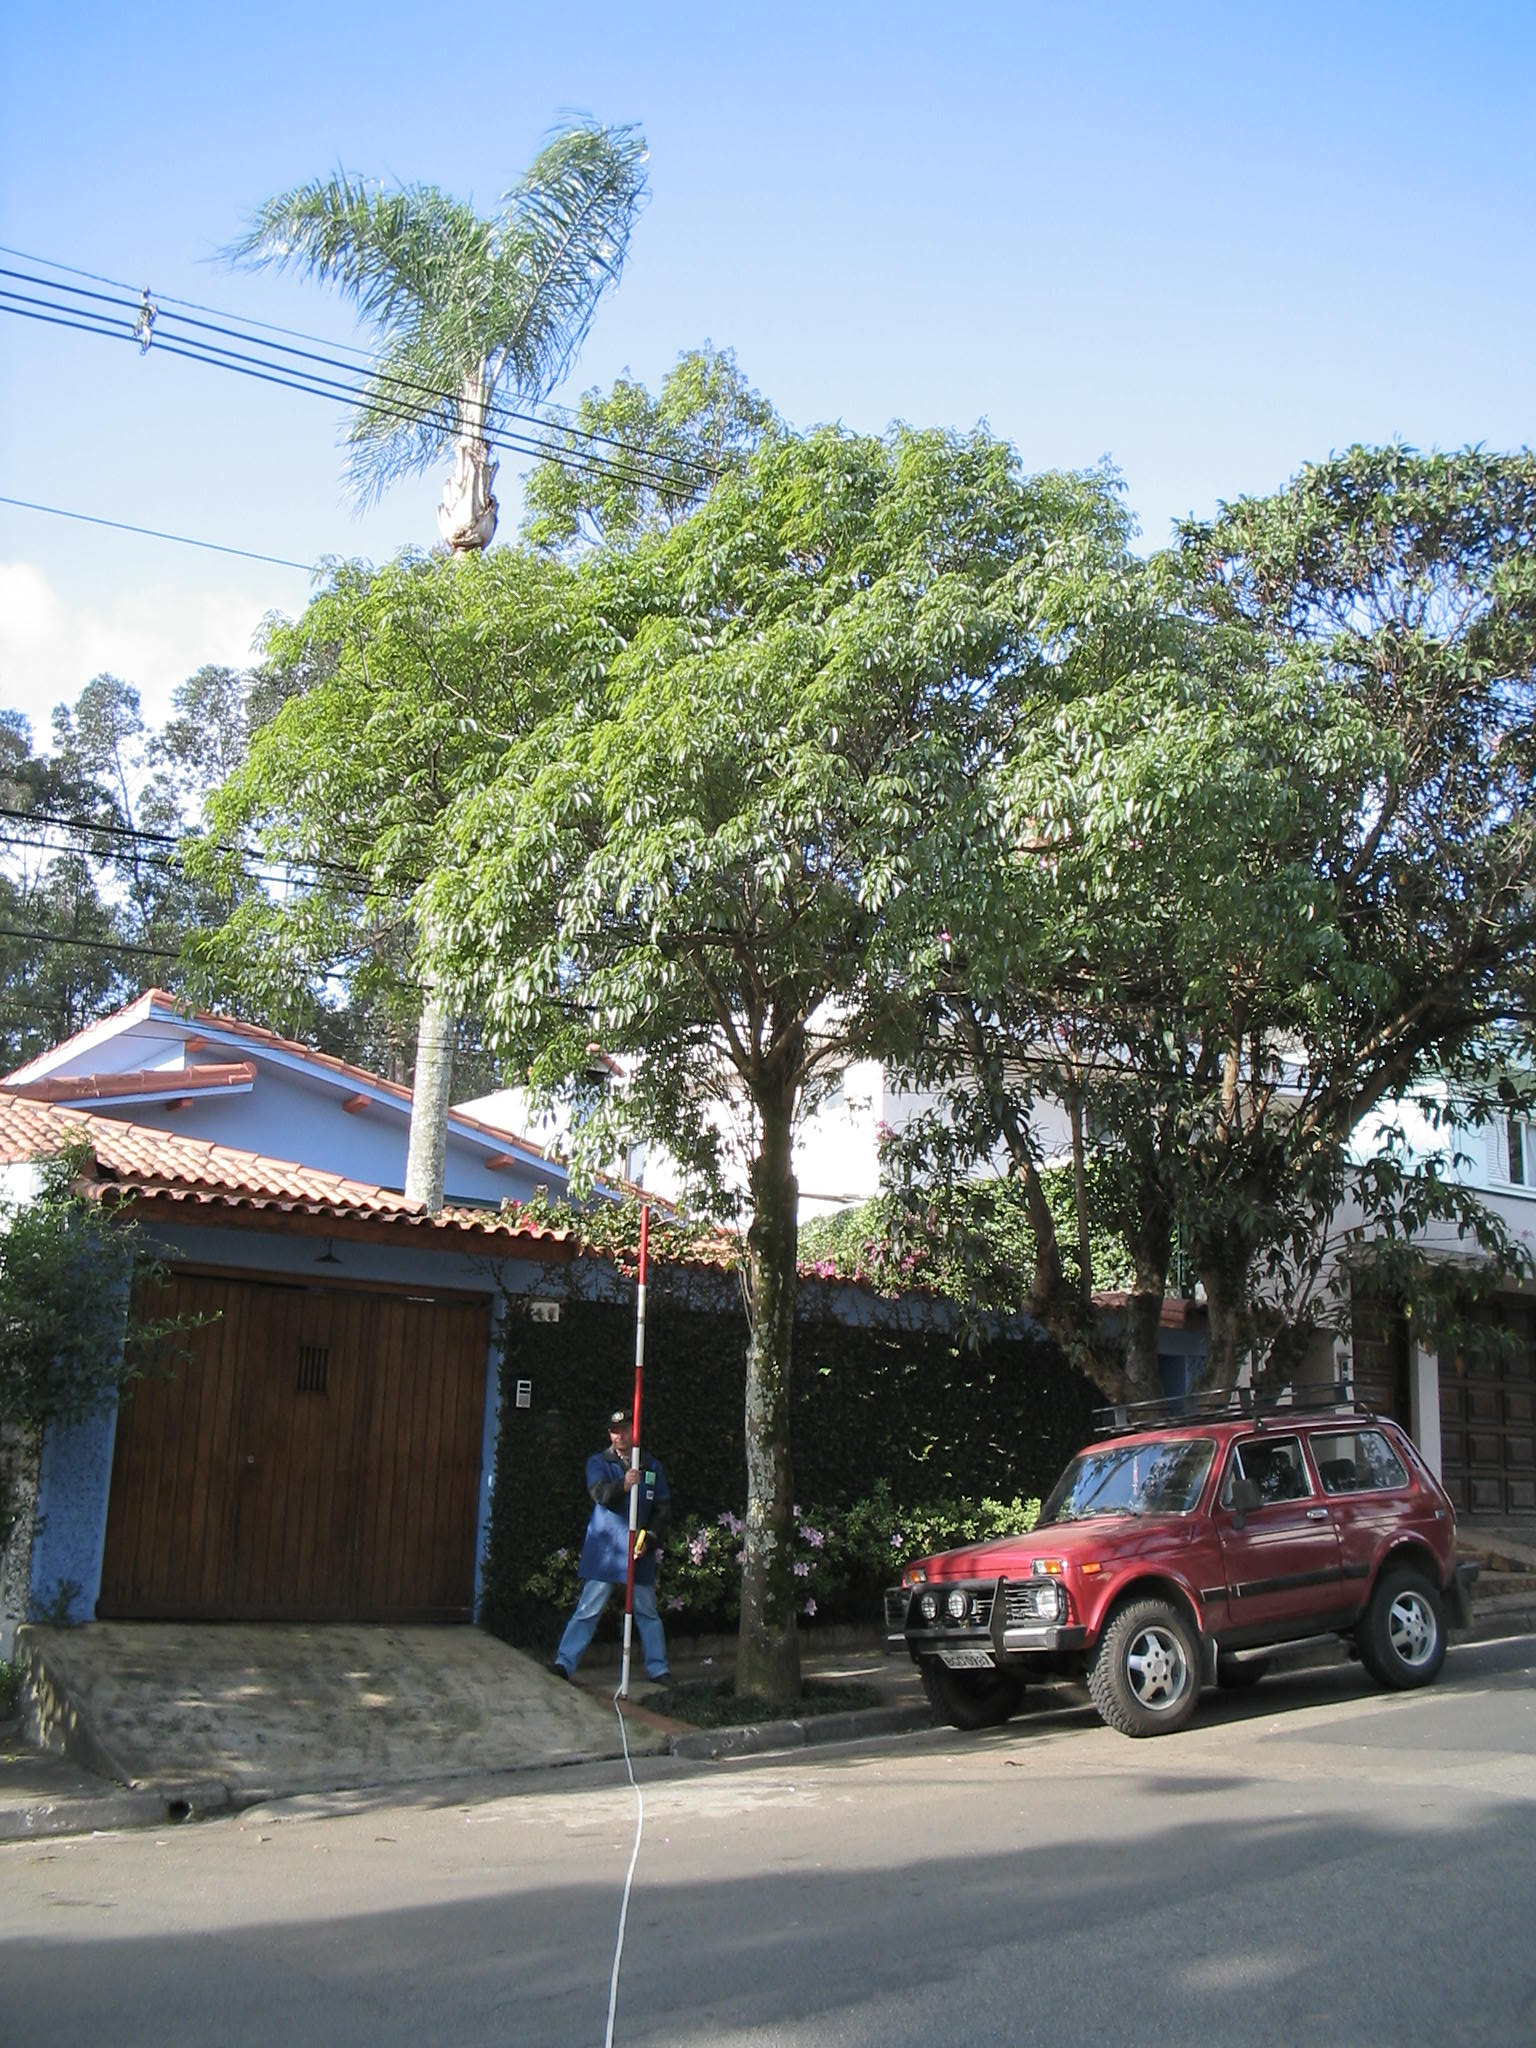crown: (177, 431, 1363, 1135), (978, 452, 1533, 1172)
stem: (703, 1127, 828, 1698)
stick: (608, 1197, 655, 1696)
tree: (169, 427, 1371, 1706), (962, 447, 1536, 1701)
